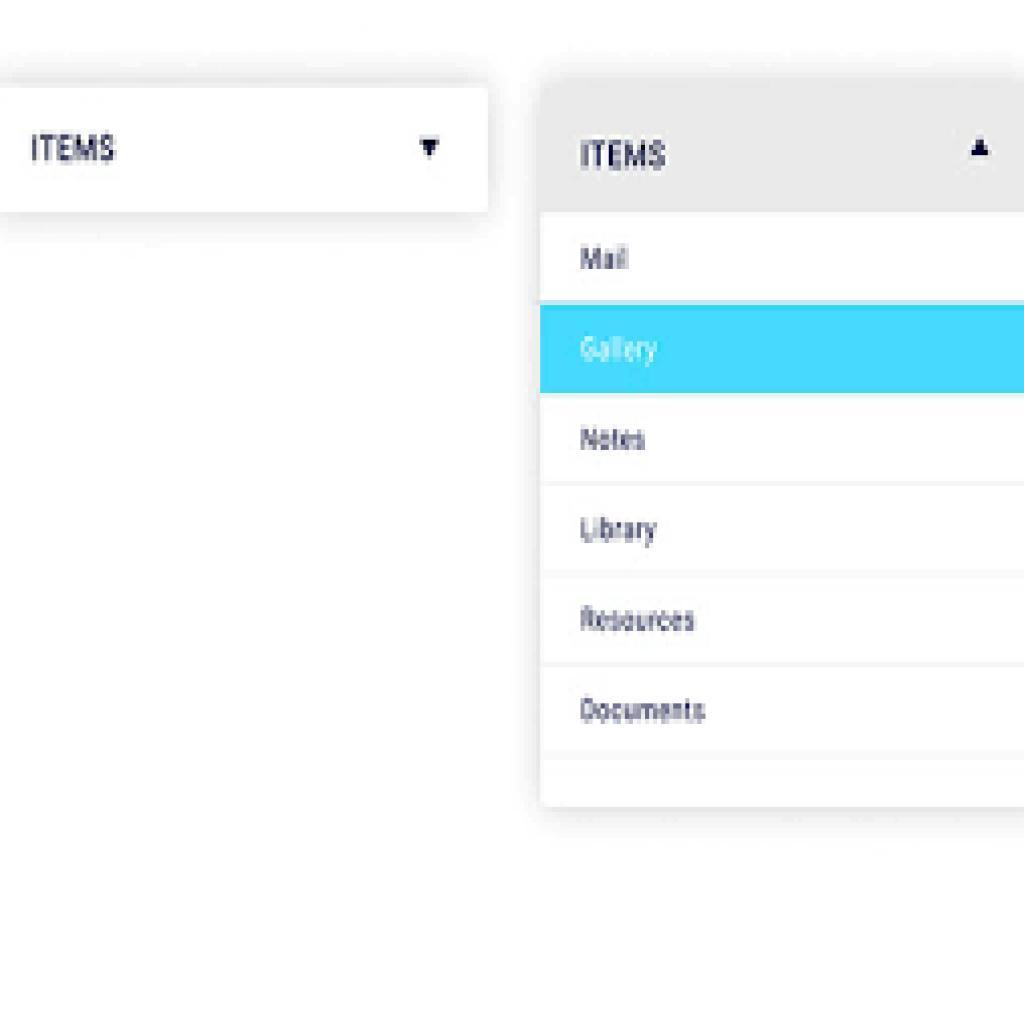dropdown: (543, 79, 1024, 213), (1, 91, 488, 214)
